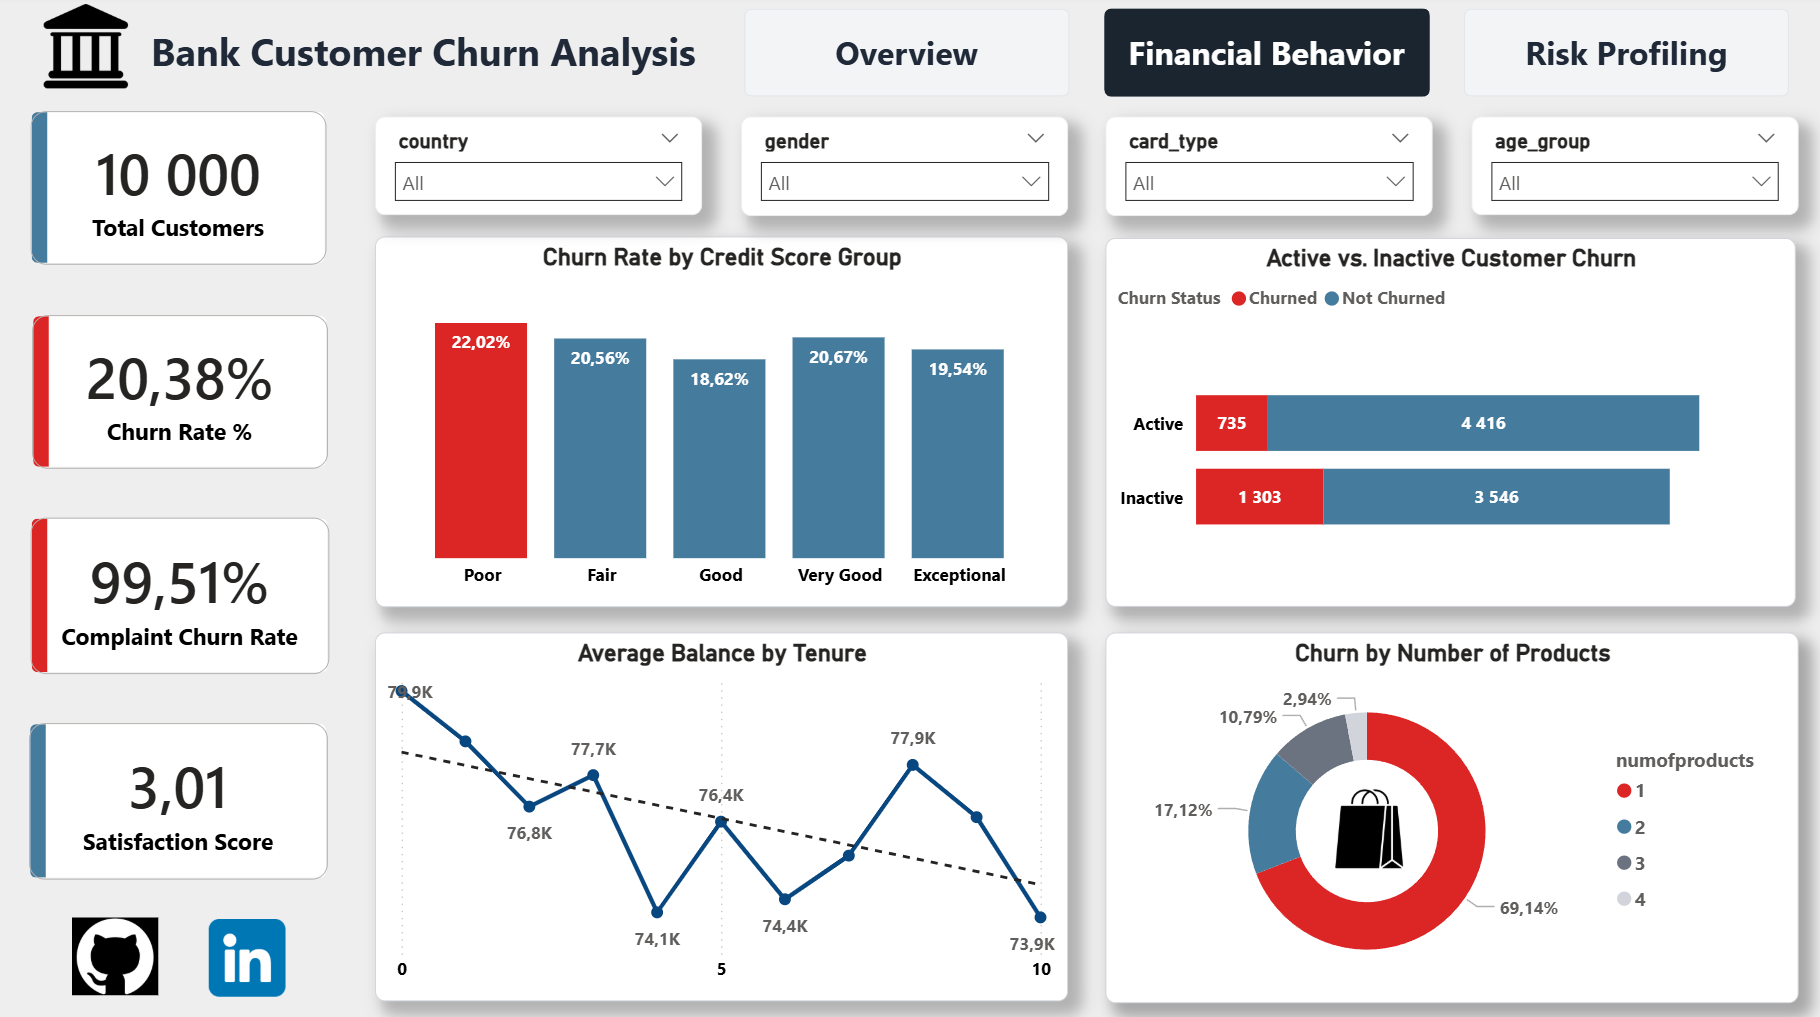

Layout of this report page (visuals, bound fields, positions):
{"tool":"powerbi","page":{"name":"Financial Behavior","canvas":[1280,720],"ordinal":1},"visuals":[{"type":"clusteredColumnChart","title":"Churn Rate by Credit Score Group","fields":{"Y":["Measures (2).Churn Rate %"],"Category":["dim_customer.credit_score_group"]},"box":[263.7,169.8,487.3,260.5],"z":0},{"type":"slicer","fields":{"Values":["dim_geography.country"]},"box":[263.7,85.4,229.9,69.6],"z":1000},{"type":"slicer","fields":{"Values":["dim_customer.gender"]},"box":[520.6,85,230,70.1],"z":2000},{"type":"slicer","fields":{"Values":["dim_cardtype.card_type"]},"box":[777.6,85,230,70.1],"z":3000},{"type":"slicer","fields":{"Values":["dim_customer.age_group"]},"box":[1034.7,85.4,229.9,69.6],"z":4000},{"type":"barChart","title":"Active vs. Inactive Customer Churn","fields":{"Y":["Measures (2).Total Customers"],"Category":["dim_customer.Member_Status"],"Series":["fact_churn.Churn_Status"]},"box":[777.3,170.9,485.2,259.5],"z":5000},{"type":"lineChart","title":"Average Balance by Tenure","fields":{"Y":["Measures (2).Avg Balance"],"Category":["dim_customer.tenure"]},"box":[263.7,448.2,487.3,259.5],"z":6000},{"type":"donutChart","title":"Churn by Number of Products","fields":{"Y":["Measures (2).Churned Customers"],"Category":["dim_customer.numofproducts"]},"box":[777.3,448.2,487.3,260.5],"z":7000},{"type":"pageNavigator","box":[522.9,9.6,735,62],"z":8000},{"type":"cardVisual","fields":{"Data":["Measures (2).Total Customers"]},"box":[4.4,64.8,242.9,142.6],"z":9000},{"type":"cardVisual","fields":{"Data":["Measures (2).Churn Rate %"]},"box":[5.6,207.4,242.9,142.6],"z":10000},{"type":"cardVisual","fields":{"Data":["Measures (2).Complaint Churn Rate %"]},"box":[4.4,350,244.1,145],"z":11000},{"type":"cardVisual","fields":{"Data":["Avg(fact_churn.satisfaction_score)"]},"box":[3.2,495,244.1,145],"z":12000},{"type":"image","box":[50.7,648.9,60.4,54.4],"z":13000},{"type":"image","box":[143.8,650.1,60.4,54.4],"z":14000},{"type":"textbox","box":[101.5,15.7,400,55.6],"z":15000},{"type":"image","box":[20.5,6,81,59.2],"z":16000},{"type":"image","box":[926.8,558.2,71.3,56.8],"z":17000}]}

Visuals, with their boxes in screenshot pixels (x1, y1, x2, y2), scaled from the page's 1280x720 canvas onto the 1820x1017 screenshot:
"Churn Rate by Credit Score Group" clusteredColumnChart: {"left": 375, "top": 240, "right": 1068, "bottom": 608}
slicer - dim_geography.country: {"left": 375, "top": 121, "right": 702, "bottom": 219}
slicer - dim_customer.gender: {"left": 740, "top": 120, "right": 1067, "bottom": 219}
slicer - dim_cardtype.card_type: {"left": 1106, "top": 120, "right": 1433, "bottom": 219}
slicer - dim_customer.age_group: {"left": 1471, "top": 121, "right": 1798, "bottom": 219}
"Active vs. Inactive Customer Churn" barChart: {"left": 1105, "top": 241, "right": 1795, "bottom": 608}
"Average Balance by Tenure" lineChart: {"left": 375, "top": 633, "right": 1068, "bottom": 1000}
"Churn by Number of Products" donutChart: {"left": 1105, "top": 633, "right": 1798, "bottom": 1001}
pageNavigator: {"left": 743, "top": 14, "right": 1789, "bottom": 101}
cardVisual - Measures (2).Total Customers: {"left": 6, "top": 92, "right": 352, "bottom": 293}
cardVisual - Measures (2).Churn Rate %: {"left": 8, "top": 293, "right": 353, "bottom": 494}
cardVisual - Measures (2).Complaint Churn Rate %: {"left": 6, "top": 494, "right": 353, "bottom": 699}
cardVisual - Avg(fact_churn.satisfaction_score): {"left": 5, "top": 699, "right": 352, "bottom": 904}
image: {"left": 72, "top": 917, "right": 158, "bottom": 993}
image: {"left": 204, "top": 918, "right": 290, "bottom": 995}
textbox: {"left": 144, "top": 22, "right": 713, "bottom": 101}
image: {"left": 29, "top": 8, "right": 144, "bottom": 92}
image: {"left": 1318, "top": 788, "right": 1419, "bottom": 869}
